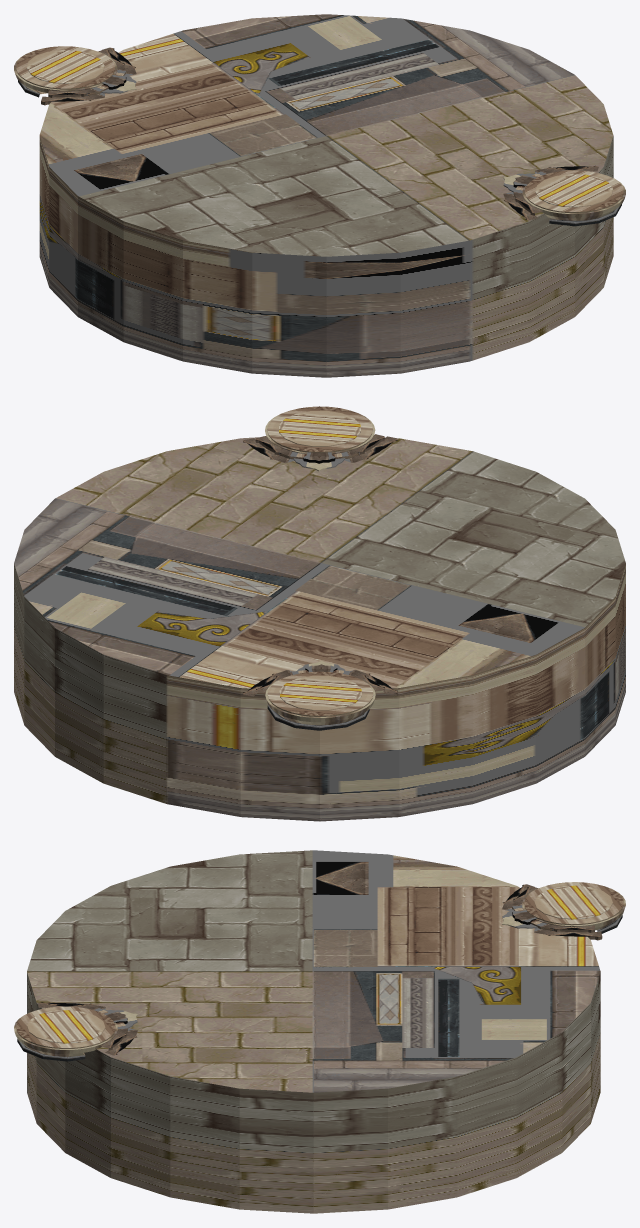
Rendered from sn_jingyanFB_xingzouceng.FBX.
3 views of the same model, one above another, from view 1: azimuth 30°, elevation 25°; view 2: azimuth 150°, elevation 25°; view 3: azimuth 270°, elevation 25° (orthographic). The views are drawn at different scales.
Visible parts, largest first — view 1: sn_jingyanFB_xingzouceng; view 2: sn_jingyanFB_xingzouceng; view 3: sn_jingyanFB_xingzouceng.
Boxes of the visible parts, <box> form: sn_jingyanFB_xingzouceng: <box>14,14,625,377</box>; sn_jingyanFB_xingzouceng: <box>14,406,625,821</box>; sn_jingyanFB_xingzouceng: <box>14,850,625,1213</box>.
Bounding box in the file's own units: 2288 × 2440 × 557.
